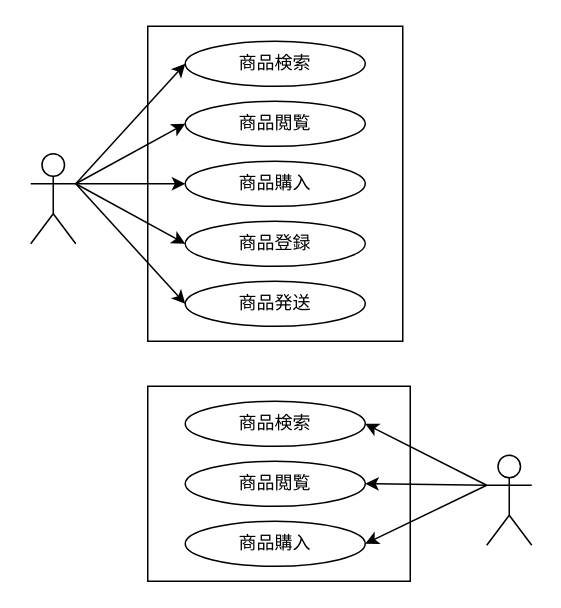
This 561x608 diagram has some shape labels left out. The centre of each missing label's shape, as x and y in pixels:
管理者: point (52, 198)
購入者: point (508, 499)
